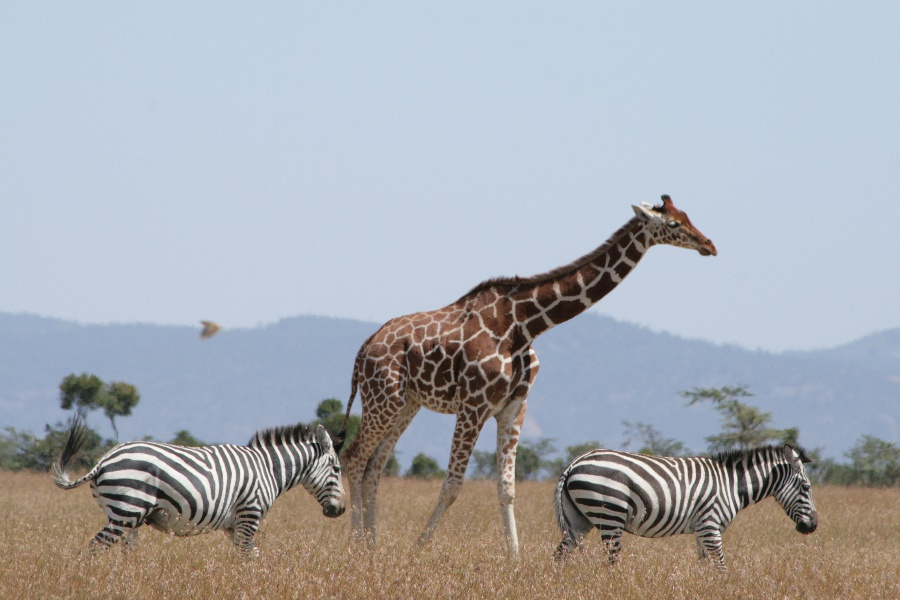giraffe: (321, 182, 721, 443)
